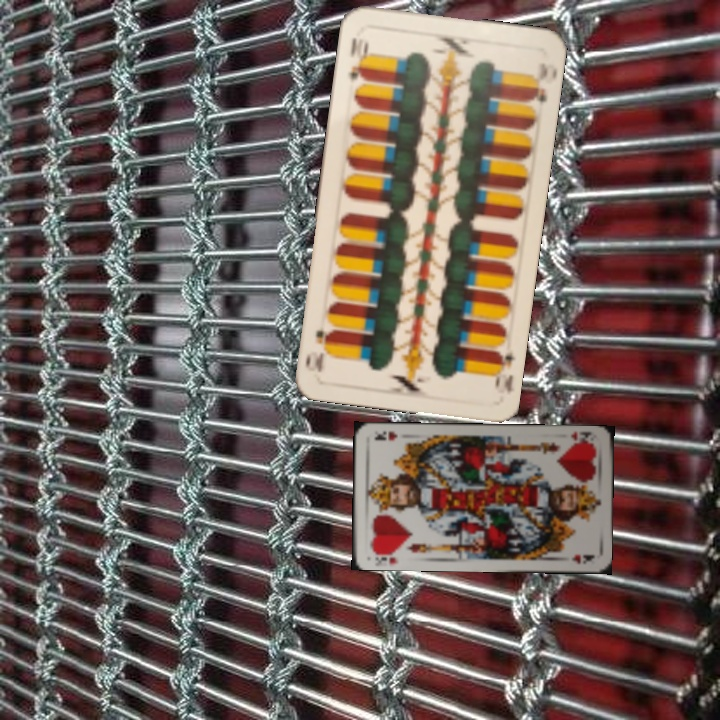E10: (488, 340, 517, 395), (345, 34, 371, 85)
HK: (368, 546, 403, 566), (567, 428, 597, 448)
